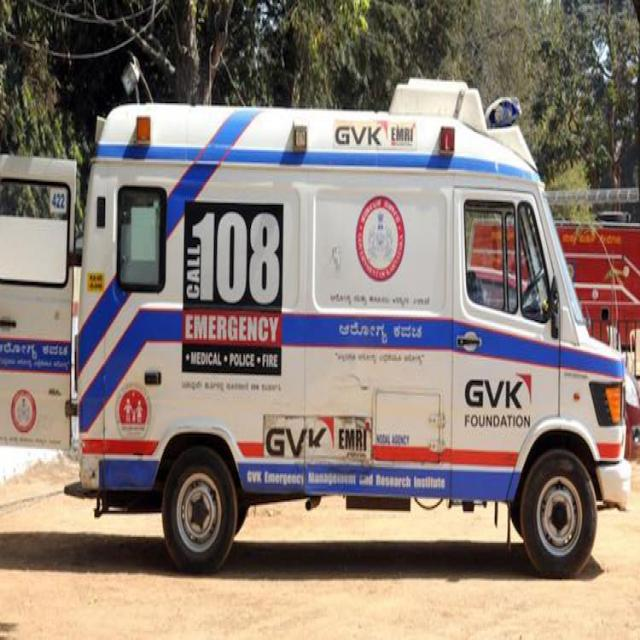Ambulance: (77, 20, 635, 617)
